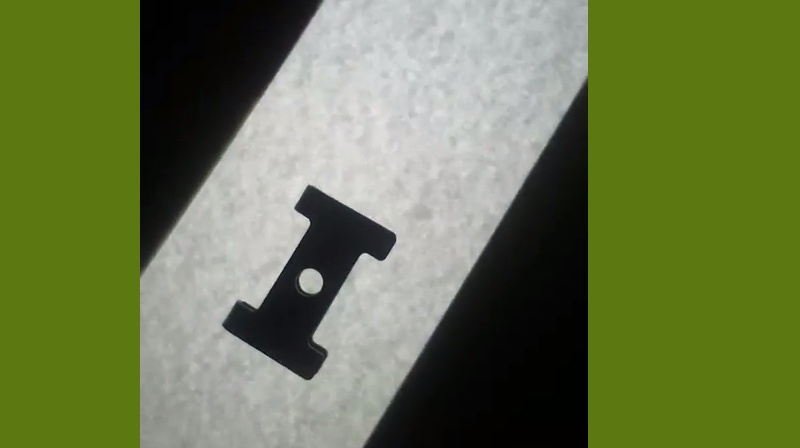O002: (220, 178, 399, 381)
